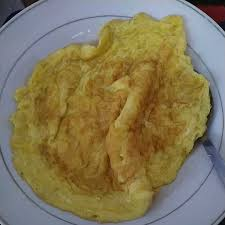Telur dadar: (11, 12, 210, 221)
